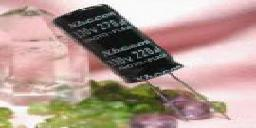Electrolytic-capacitor: (53, 2, 232, 128)
